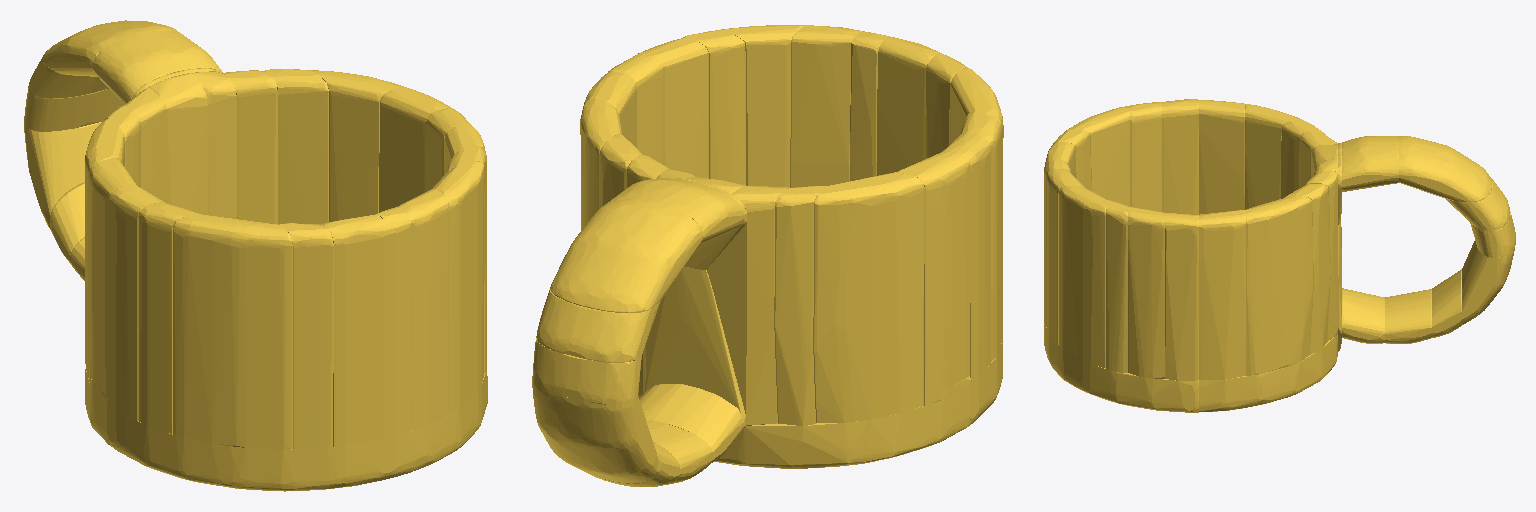
URDF robot description (1046.urdf):
<?xml version="1.0" ?>
<robot name="1046.urdf">
	<link name="baseLink">
		<inertial>
			<origin rpy="0 0 0" xyz="0 0 0"/>
				<mass value="0.1"/>
				<inertia ixx="6e-5" ixy="0" ixz="0" iyy="6e-5" iyz="0" izz="6e-5"/>
		</inertial>
		<visual>
			<origin rpy="0 0 0" xyz="0 0 0"/>
			<geometry>
				<mesh filename="32_decom_wt.obj" scale="1.08 1.08 0.90"/>
			</geometry>
			<material name="yellow">
				<color rgba="0.98 0.84 0.35 1"/>
			</material>
		</visual>
		<collision>
			<origin rpy="0 0 0" xyz="0 0 0"/>
			<geometry>
				<mesh filename="32_decom_wt.obj" scale="1.08 1.08 0.90"/>
			</geometry>
		</collision>
	</link>
</robot>

--- Render facts (derived) ---
Views: 3 orthographic renders of the robot side by side, from view 1: azimuth 30°, elevation 25°; view 2: azimuth 150°, elevation 25°; view 3: azimuth 270°, elevation 25°.
Robot: 1046.urdf — 1 links, 0 joints (none); root link baseLink; default pose: all joints at 0.
Visible links, largest first — view 1: baseLink; view 2: baseLink; view 3: baseLink.
Link boxes in pixels (x1,y1,x2,y2): baseLink: (24,20,487,491); baseLink: (532,25,1003,486); baseLink: (1044,99,1515,412).
Size in the robot's own frame: 0.1029 by 0.1624 by 0.0783 metres.
1 mesh visuals loaded from 1 distinct referenced files (1 OBJ).